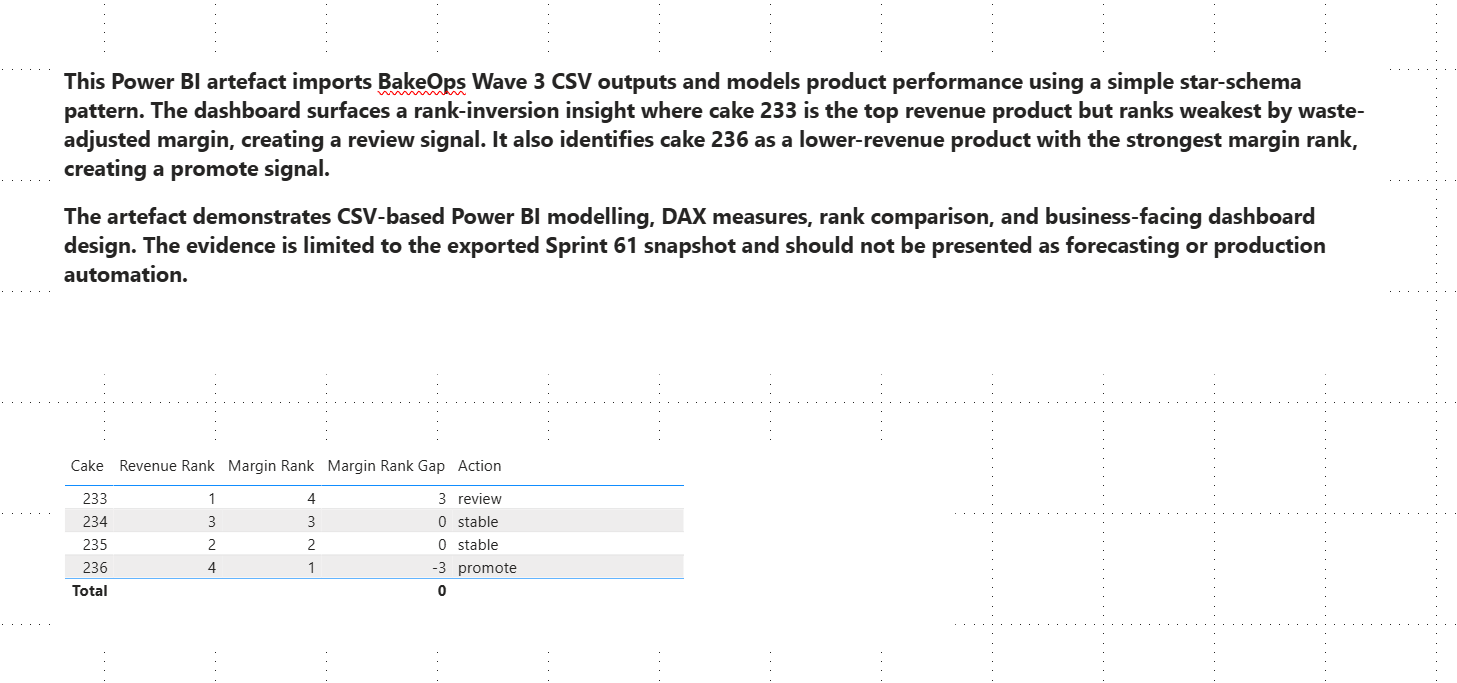

This screenshot's page, from the dashboard's own definition file:
{"tool":"powerbi","page":{"name":"Hiring Manager Summary","canvas":[1280,720],"ordinal":1},"visuals":[{"type":"textbox","box":[16,0,1200,192],"z":0},{"type":"tableEx","fields":{"Values":["Fact_ProductPerformanceSnapshot.cake_id","Fact_ProductPerformanceSnapshot.revenue_rank","Fact_ProductPerformanceSnapshot.waste_adjusted_margin_rank","Sum(Fact_ProductPerformanceSnapshot.Margin Rank Gap)","Fact_ProductPerformanceSnapshot.action_flag"]},"box":[16,304,1200,176],"z":1000}]}

Visuals, with their boxes on the page's 1280x720 design canvas (x1, y1, x2, y2). These are canvas units, not pixel positions in the 1457x683 screenshot, which may show the page scaled, cropped or inside an application window:
textbox: bbox(16, 0, 1216, 192)
tableEx - Fact_ProductPerformanceSnapshot.cake_id x Fact_ProductPerformanceSnapshot.revenue_rank: bbox(16, 304, 1216, 480)
